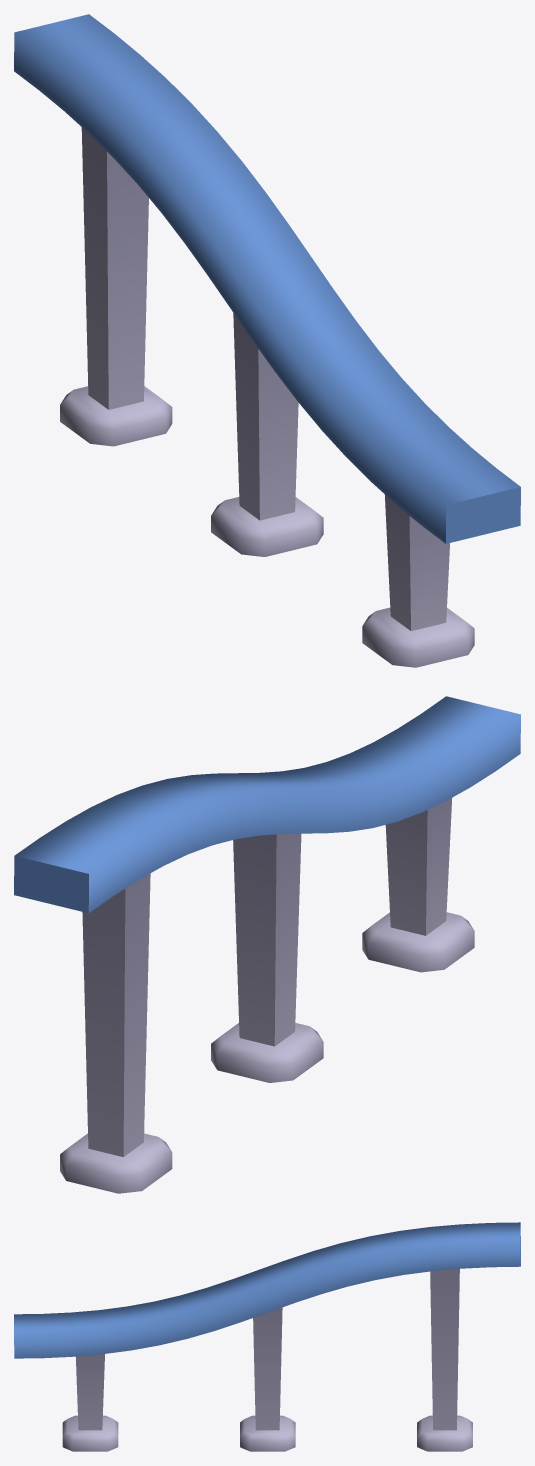
Rendered from rail-slope-smooth.glb.
The picture shows the model from 3 angles, top to bottom: view 1: azimuth 30°, elevation 25°; view 2: azimuth 150°, elevation 25°; view 3: azimuth 270°, elevation 25°; orthographic projection. The views are drawn at different scales.
Visible parts, largest first — view 1: rail-slope-smooth; view 2: rail-slope-smooth; view 3: rail-slope-smooth.
Boxes of the visible parts, x1,y1,x2,y2 form: rail-slope-smooth: (14, 14, 520, 667); rail-slope-smooth: (14, 696, 520, 1193); rail-slope-smooth: (14, 1222, 520, 1451).
Bounding box in the file's own units: 0.11 × 0.45 × 1.
Materials: 1 (1 with a texture image).
